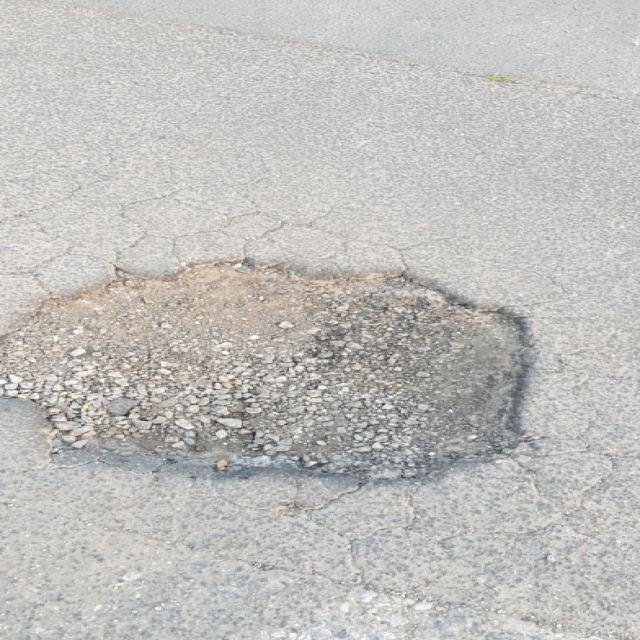pothole: (0, 249, 547, 486)
